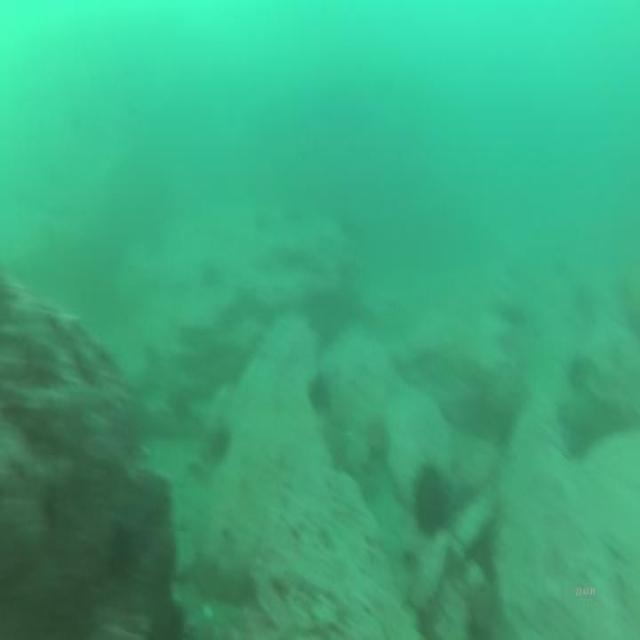echinus: (408, 459, 452, 544), (470, 526, 500, 588), (202, 417, 235, 468), (305, 367, 335, 420), (165, 384, 192, 422), (198, 259, 220, 294)
